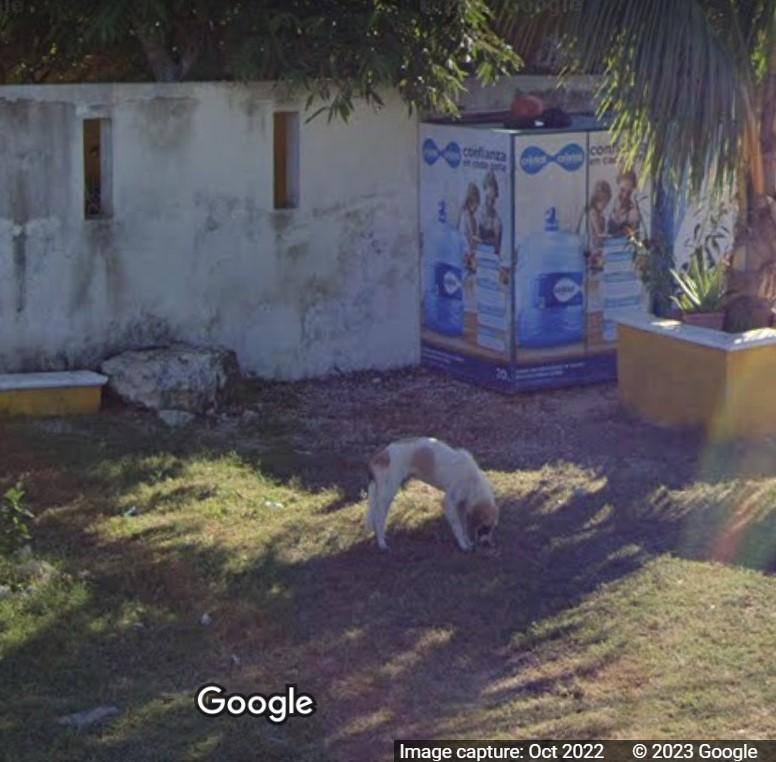normal_dogs: (330, 403, 526, 570)
